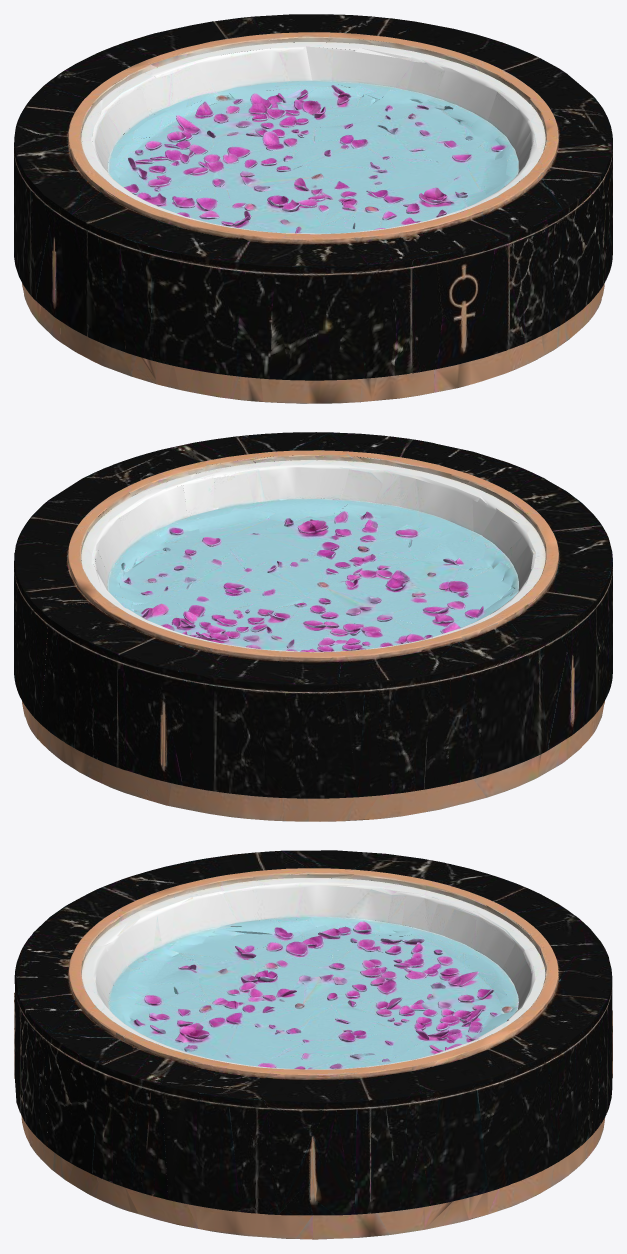
File: tub.glb
3 views of the same model, one above another, from view 1: azimuth 30°, elevation 25°; view 2: azimuth 150°, elevation 25°; view 3: azimuth 270°, elevation 25° (orthographic).
Visible parts, largest first — view 1: room_tub; view 2: room_tub; view 3: room_tub.
Part boxes in pixels (x1,y1,x2,y2): room_tub: (14,14,612,403); room_tub: (14,432,612,821); room_tub: (14,850,612,1239).
Bounding box in the file's own units: 2 × 0.5355 × 2.
Materials: 1 (1 with a texture image).
